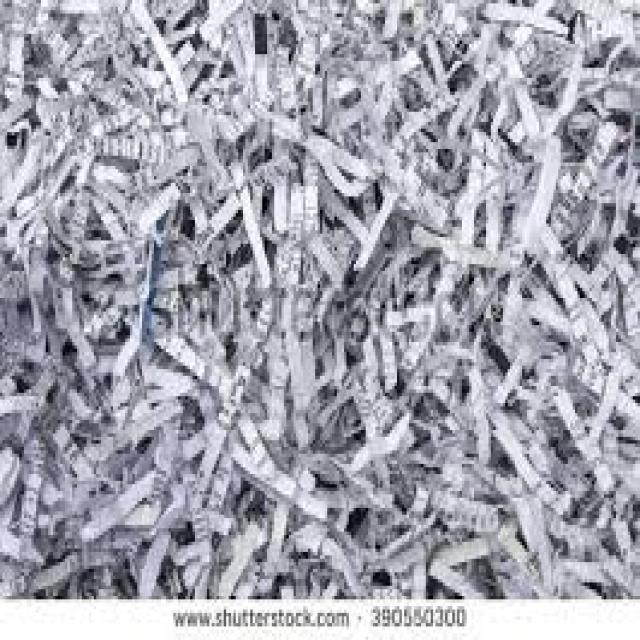paper: (0, 0, 638, 596)
